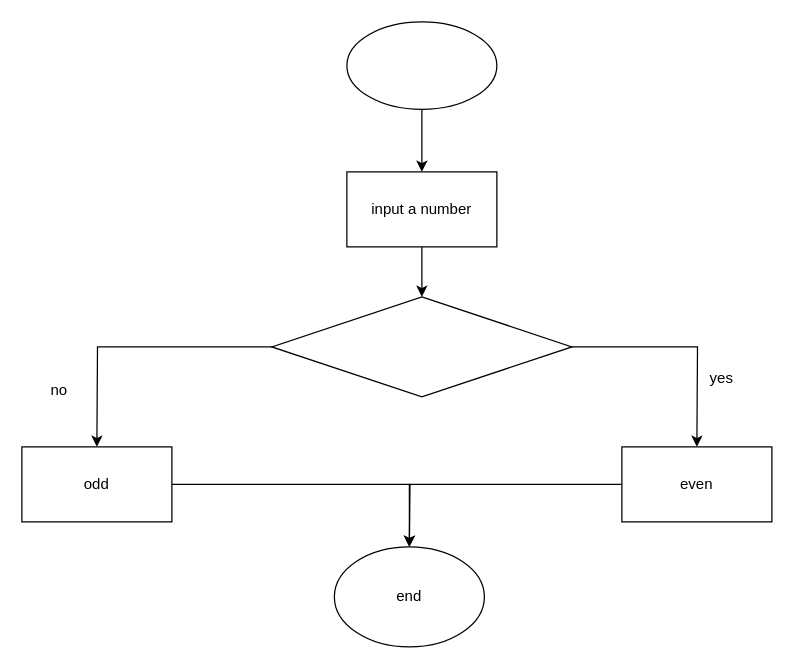
This 794x669 diagram has some shape labels left out. The shapes that lost their labels are listed below. From the top down, each one's centre as x and y in pixels, then its label:
At point (421, 65): "start".
At point (421, 346): "divided by 2 number %2==0".
